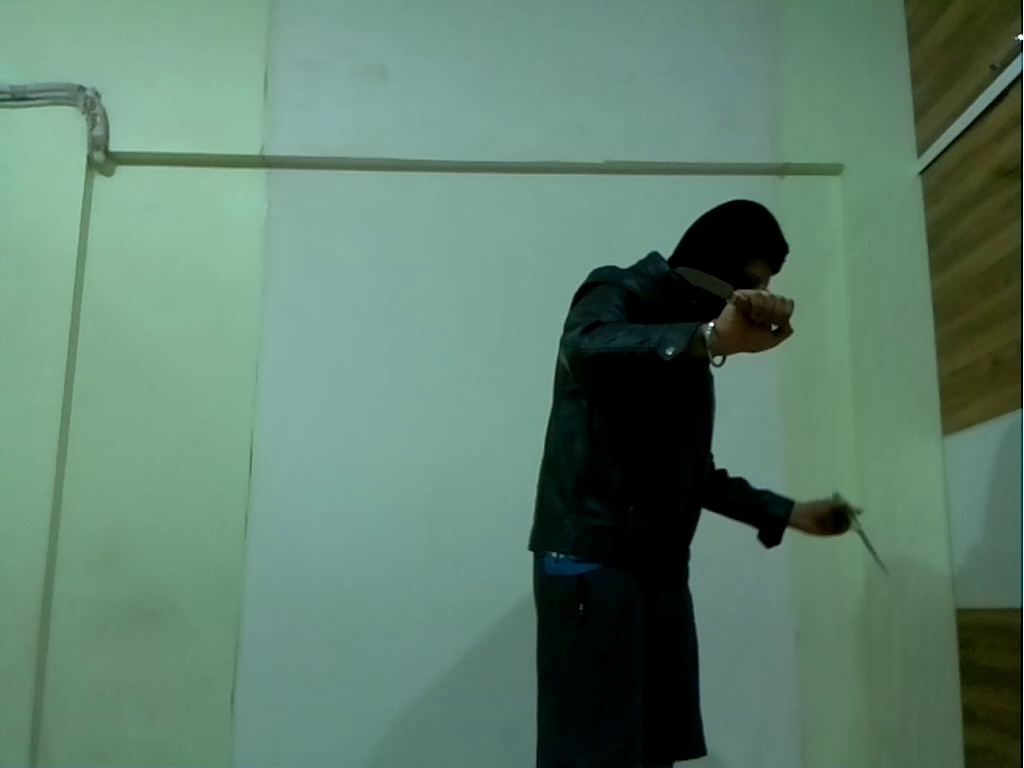knife: (672, 263, 764, 312)
